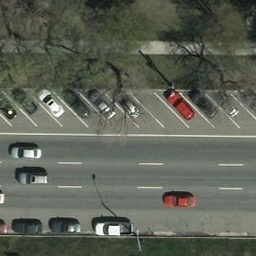car: (63, 90, 90, 117), (87, 89, 114, 116), (166, 91, 193, 118), (124, 93, 151, 120), (189, 90, 216, 117), (12, 87, 39, 113), (38, 91, 65, 117), (9, 144, 45, 159), (14, 168, 50, 183), (9, 220, 45, 235), (47, 217, 83, 232), (95, 220, 131, 235), (161, 193, 197, 208)
